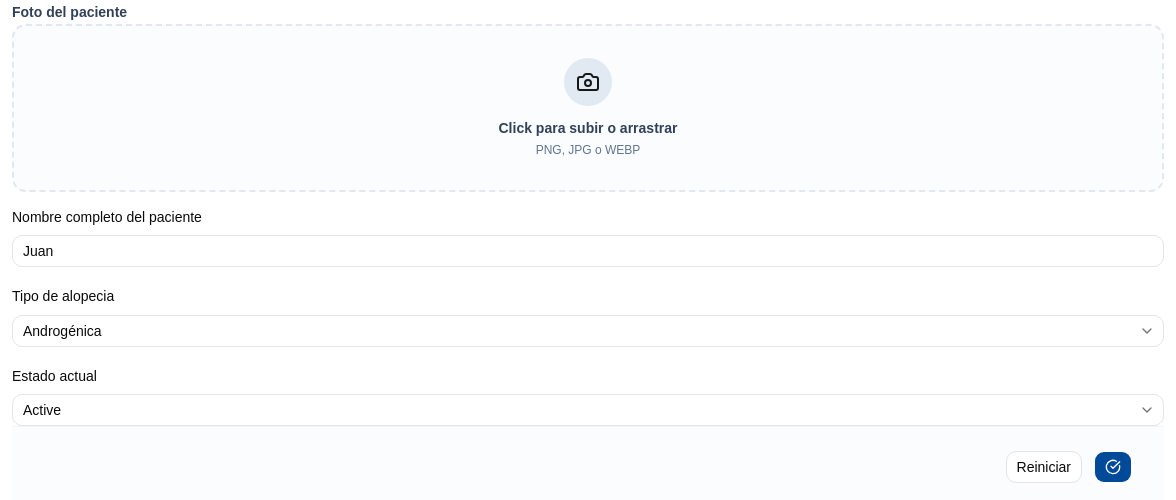
it: PatientForm › should reset form values when clicking reset
This screenshot has width=1176, height=500.
Replace the text in the field showing "Juan" with "Carlos" at (588, 251), box [12, 235, 1164, 267]
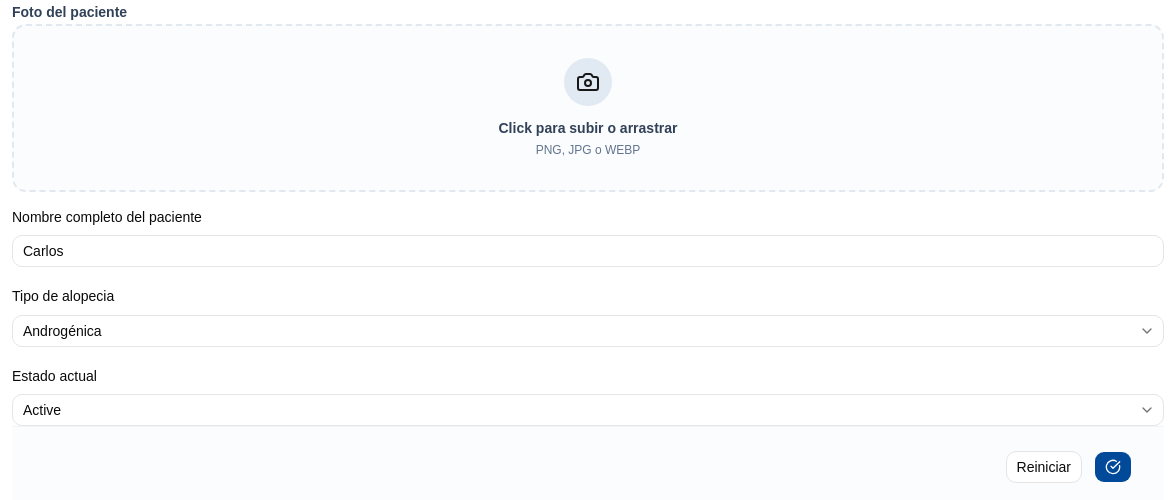
Click the button "Reiniciar" at (1044, 467), box [1006, 451, 1082, 483]
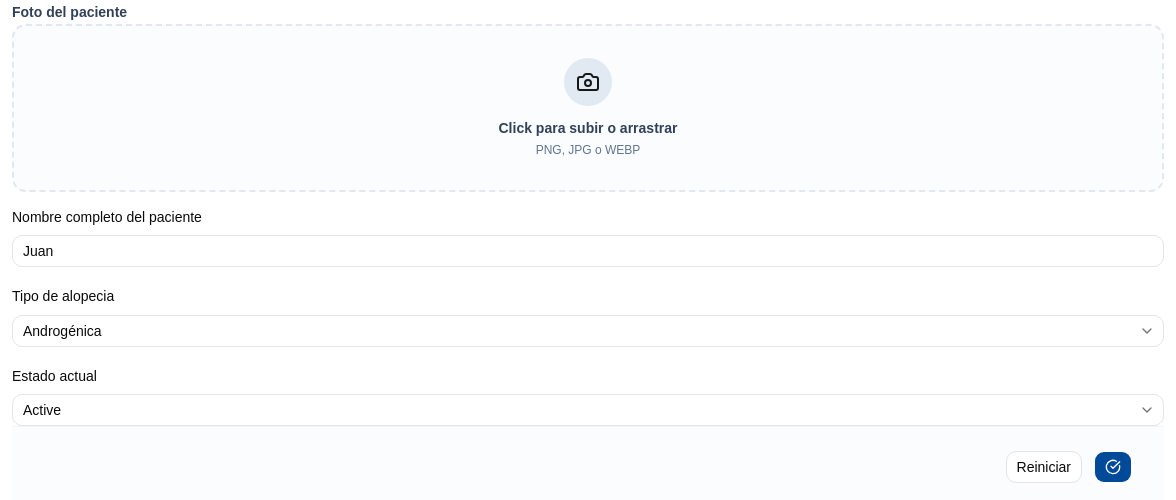
Now the field showing "Juan" holds "Juan", box [12, 235, 1164, 267]
